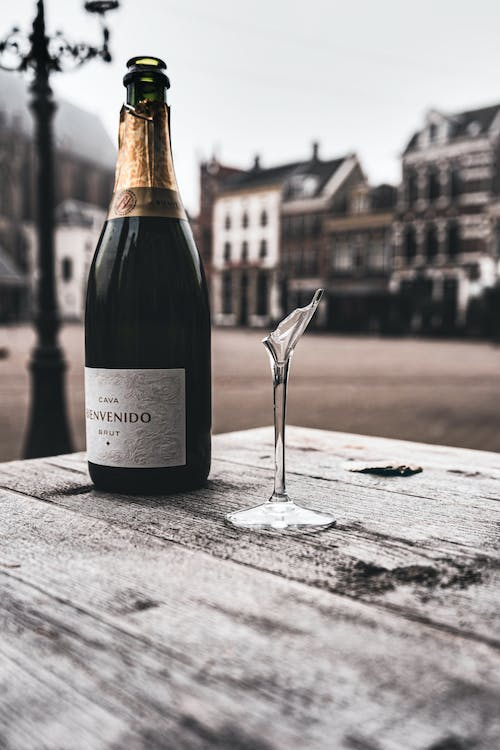alcohol: (82, 53, 213, 496)
